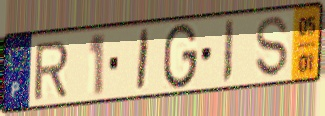1: (87, 31, 107, 99)
G: (161, 21, 200, 92)
I: (134, 26, 152, 94), (221, 17, 237, 86)
R: (32, 38, 71, 103)
S: (254, 15, 291, 80)
